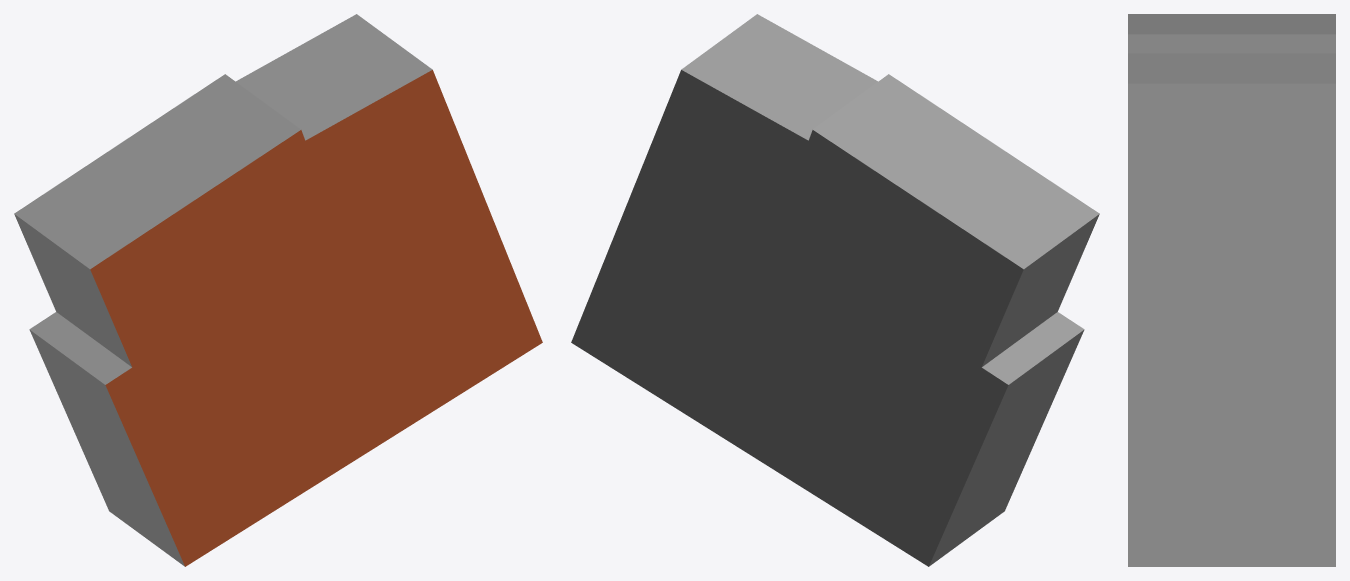
The model's file is construction_2404_assumed_A_Casa_h6m.obj.
3 renders of one model, left to right at view 1: azimuth 30°, elevation 25°; view 2: azimuth 150°, elevation 25°; view 3: azimuth 270°, elevation 25°, orthographic. The views are drawn at different scales.
Visible parts, largest first — view 1: construction_2404_assumed_A_Casa; view 2: construction_2404_assumed_A_Casa; view 3: construction_2404_assumed_A_Casa.
Part boxes in pixels (<box>): construction_2404_assumed_A_Casa: <box>14,14,542,566</box>; construction_2404_assumed_A_Casa: <box>571,14,1099,566</box>; construction_2404_assumed_A_Casa: <box>1128,14,1335,566</box>.
Size of the model in its own units: 20.62 by 19.01 by 6.
